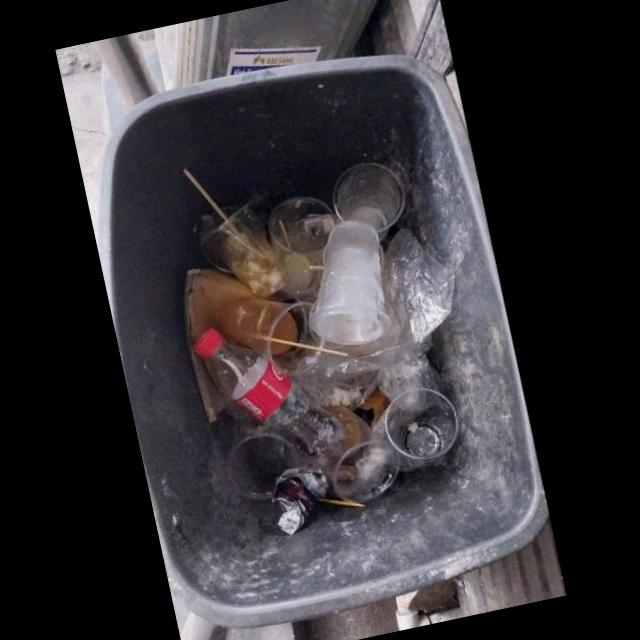bao_bi_thuc_pham: (272, 467, 329, 535)
chai_nhua_pet: (192, 328, 346, 465)
hop_nhua: (308, 220, 393, 348), (203, 204, 289, 298), (219, 298, 321, 377), (323, 405, 400, 504), (268, 197, 336, 299), (384, 387, 459, 472), (332, 161, 405, 239)
tui_ni_long: (316, 228, 456, 401)
